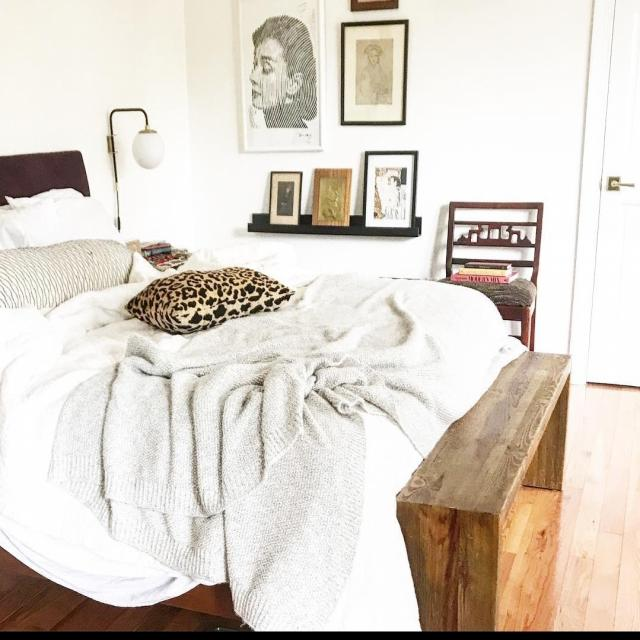bed: (5, 183, 463, 584)
